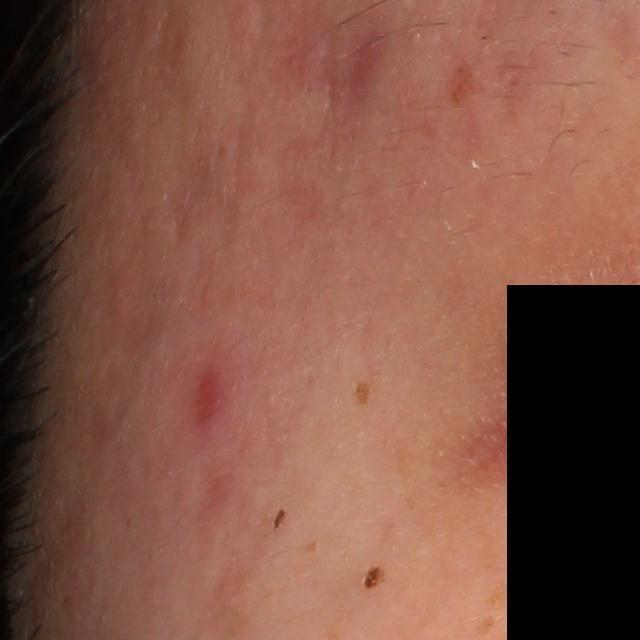melasma: (447, 52, 489, 105), (354, 379, 376, 404), (475, 612, 497, 637), (302, 538, 320, 555)
nevus: (359, 561, 389, 592), (269, 505, 290, 533)
papule: (194, 370, 231, 423)
